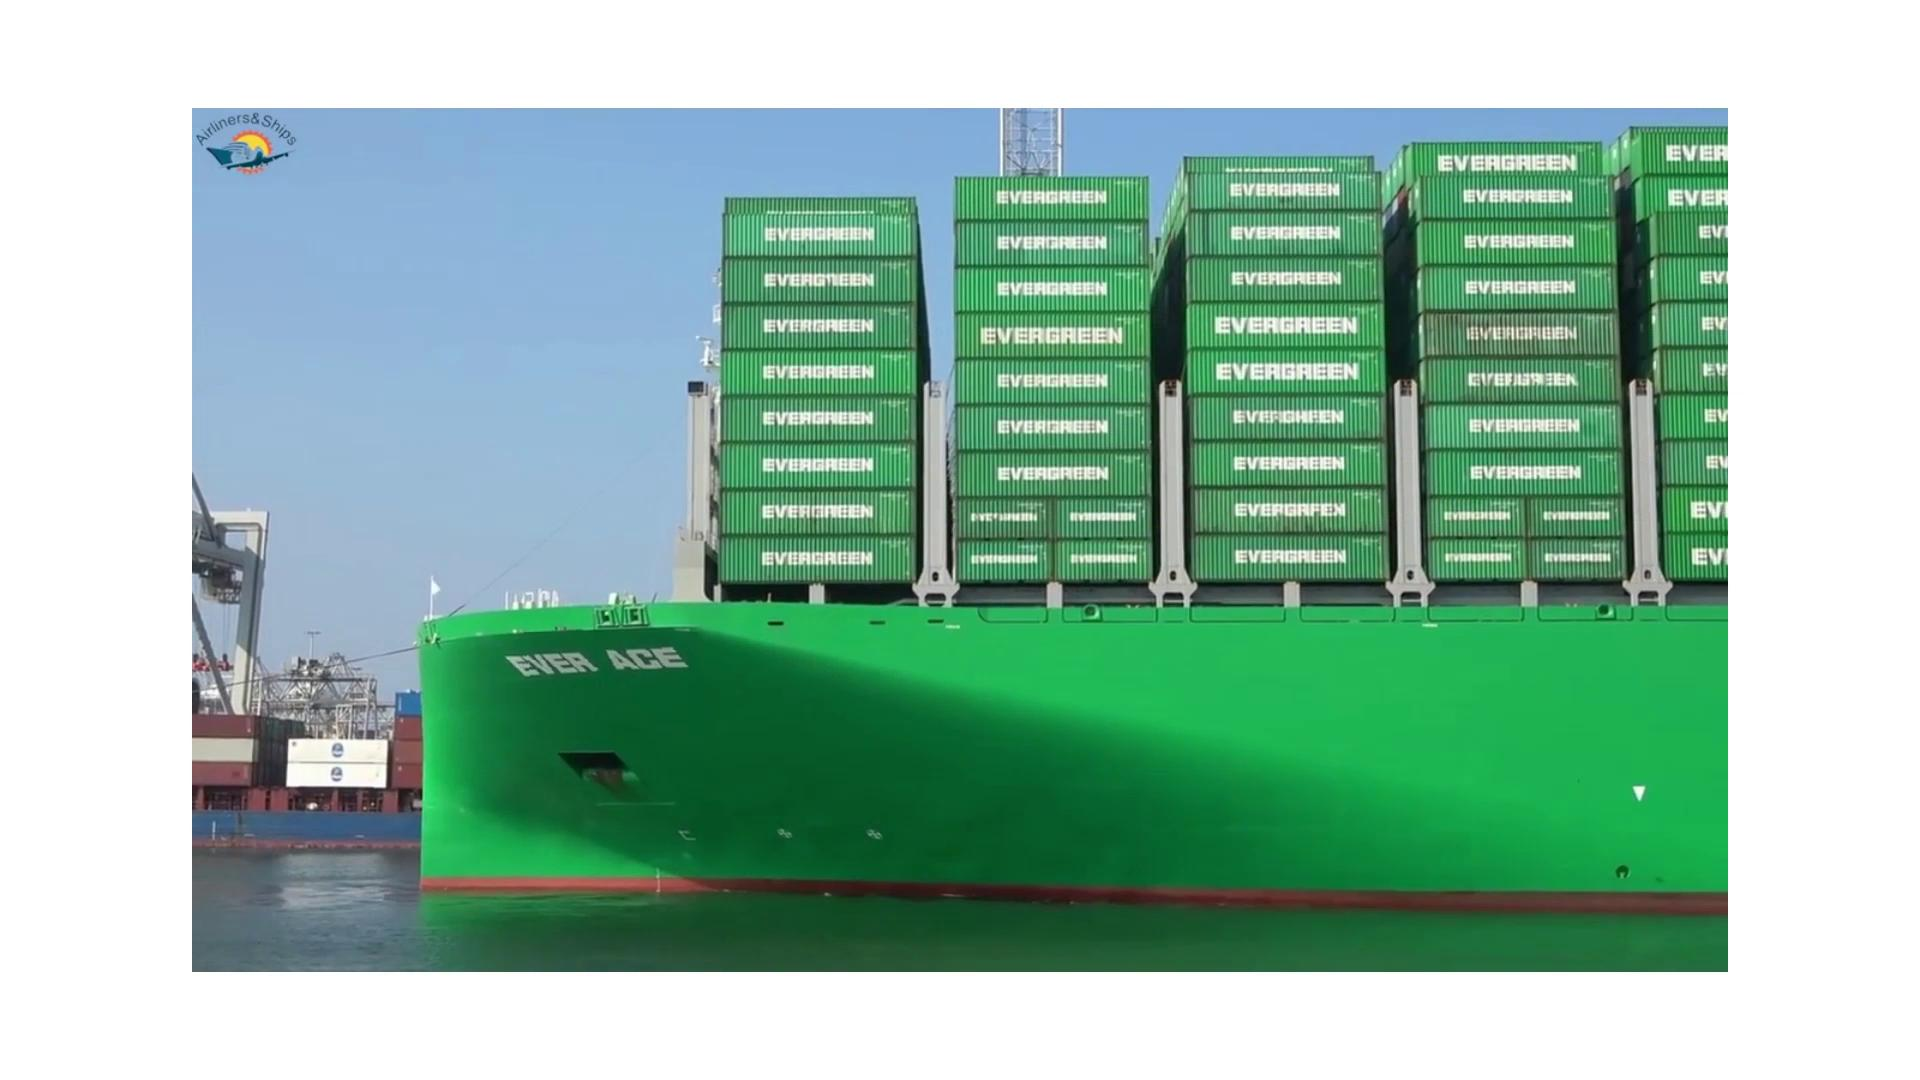OCR: (491, 632, 698, 680)
